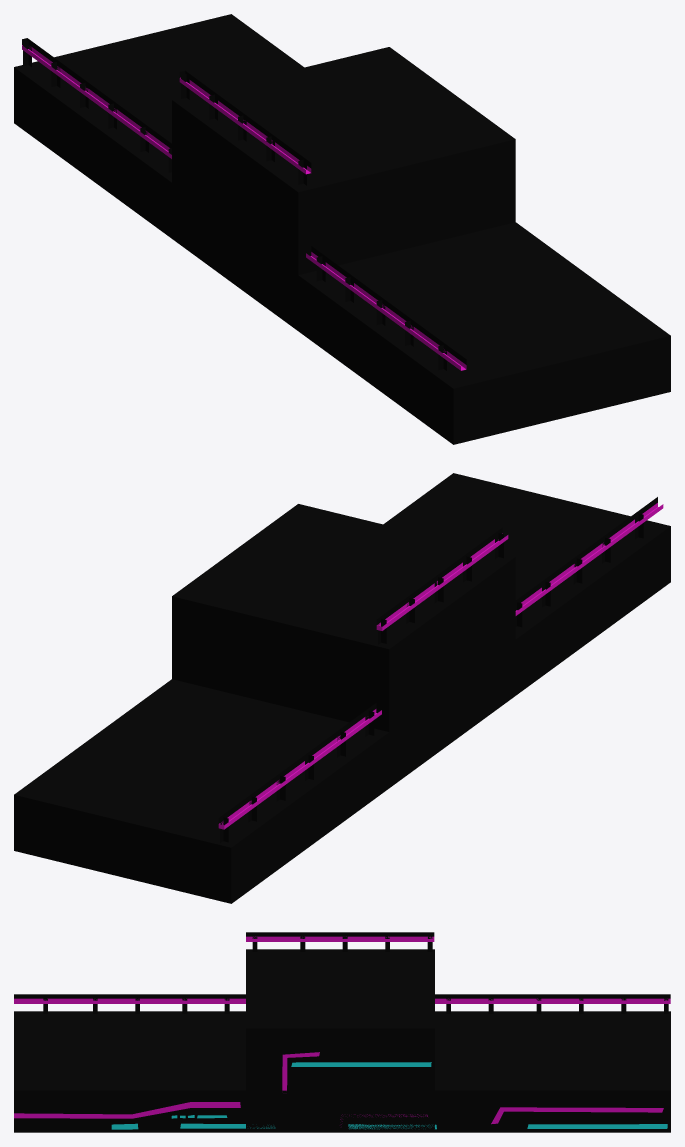
Rendered from tile8.fbx.
3 views of the same model, one above another, from view 1: azimuth 30°, elevation 25°; view 2: azimuth 150°, elevation 25°; view 3: azimuth 270°, elevation 25° (orthographic). The views are drawn at different scales.
Parts seen in each view (by area): view 1: Cube.127; view 2: Cube.127; view 3: Cube.127.
Part boxes in pixels (x1,y1,x2,y2): Cube.127: (14,14,670,444); Cube.127: (14,473,670,903); Cube.127: (14,932,670,1132).
Size of the model in its own units: 200 by 145 by 700.
